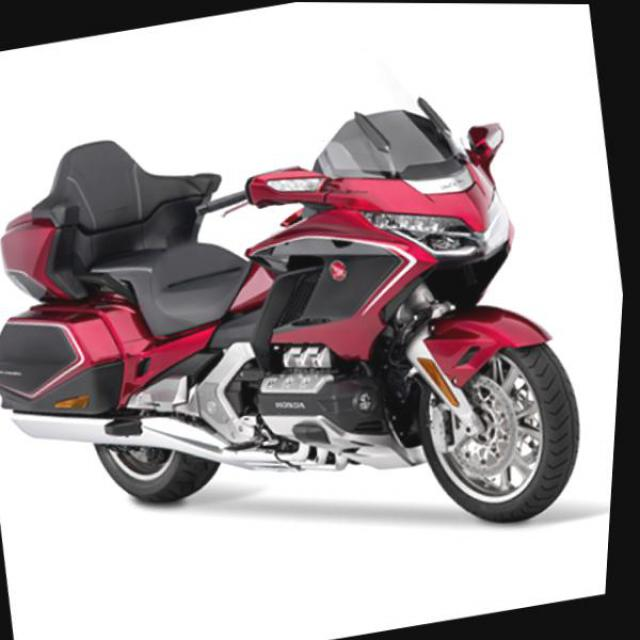Gold Wing: (0, 22, 620, 612)
